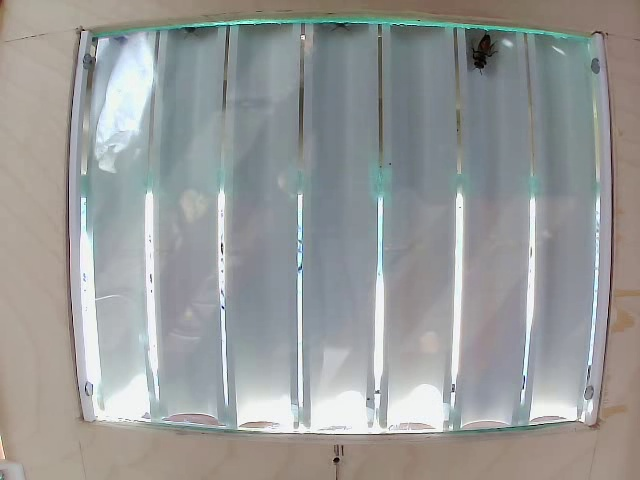bee: (471, 26, 495, 80)
